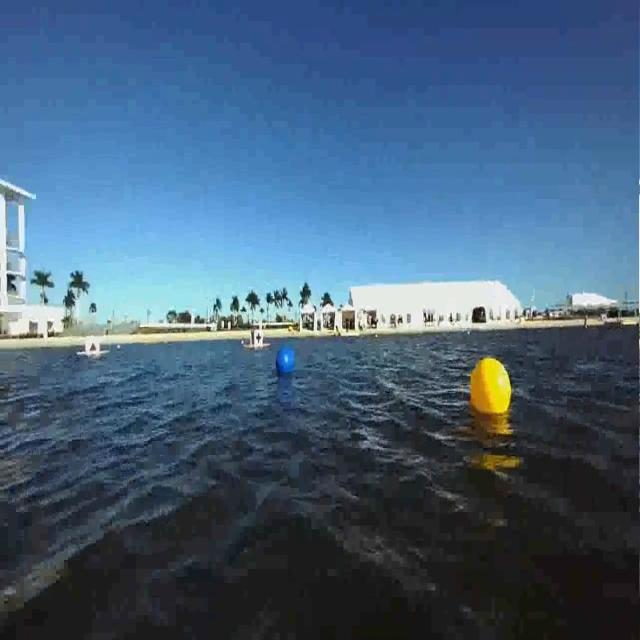blue-buoy: (273, 339, 301, 392)
yellow-buoy: (455, 352, 512, 422)
